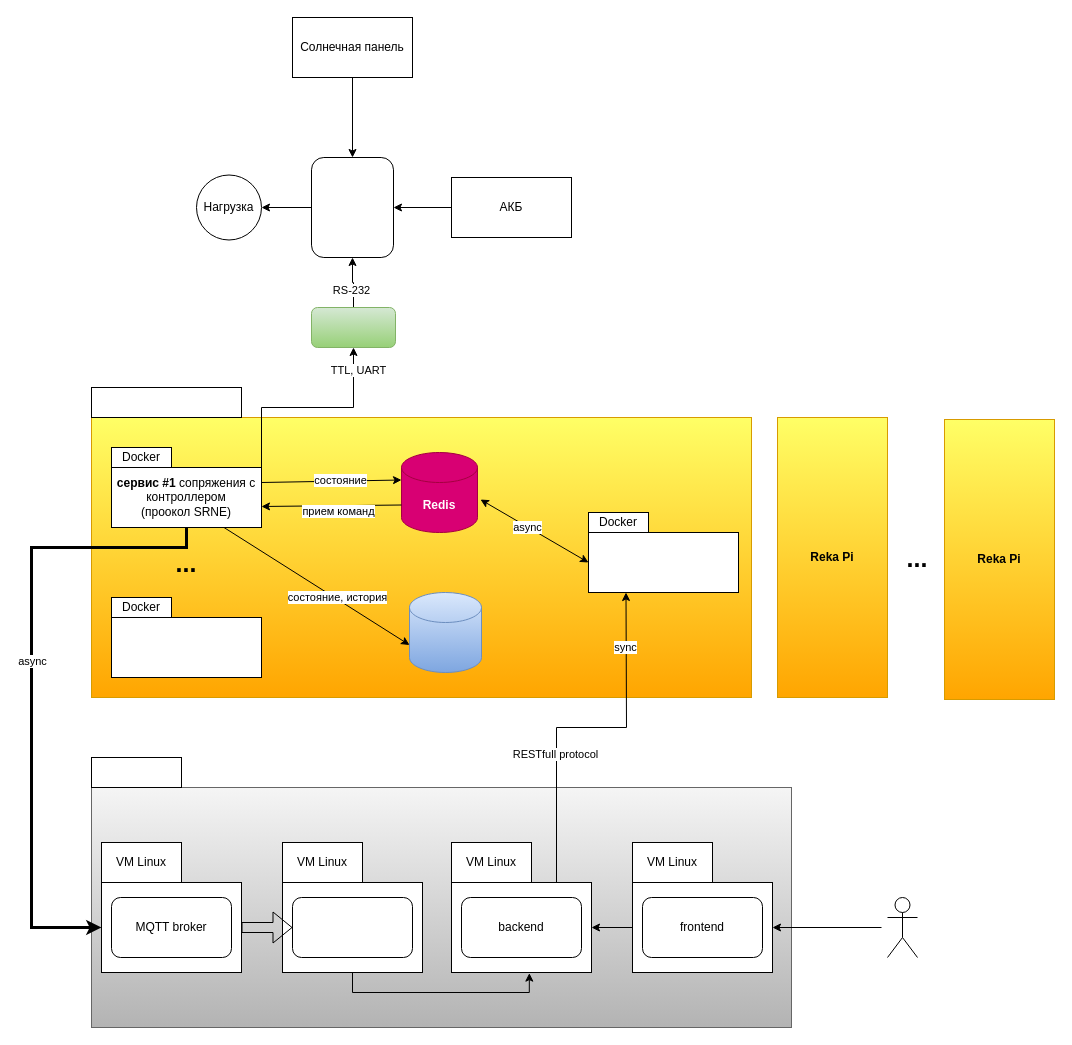
The diagram is 1072 pixels wide and 1045 high, and some of its shapes have lost their labels. The centre of each missing label's shape, as x and y in pixels:
"Actor" goes at [902,927].
"Database" goes at [352,927].
"max 3232" goes at [353,327].
"Postgres" goes at [445,632].
"Repka Pi (Ubuntu Linux)" goes at [166,402].
"Server (KVM)" goes at [136,772].
"SmartWatt контроллер" goes at [352,207].
"сервис #N сопряжения с контроллером (проокол SRNE)" goes at [186,647].
"сервис REST API" goes at [663,562].
